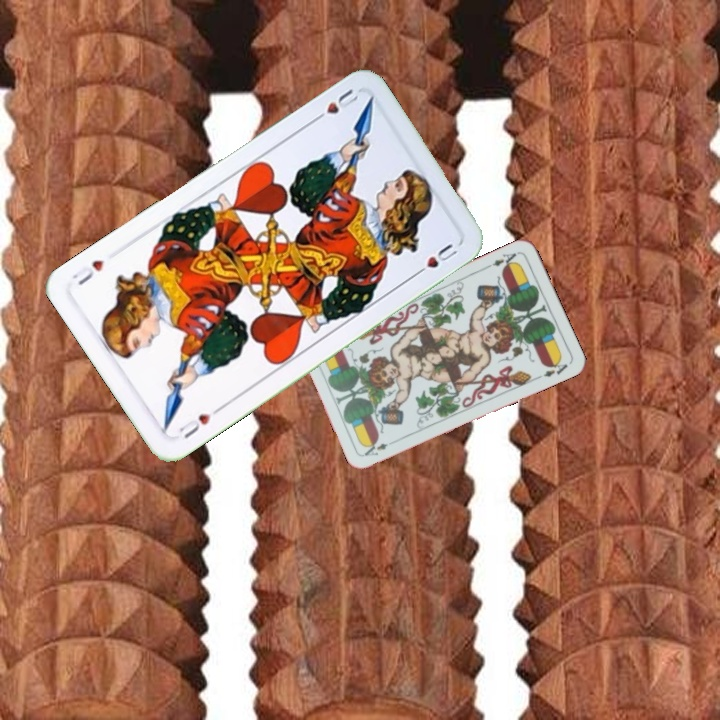EA: (360, 436, 399, 459), (483, 249, 520, 271)
HU: (308, 85, 361, 125), (174, 403, 224, 441)
